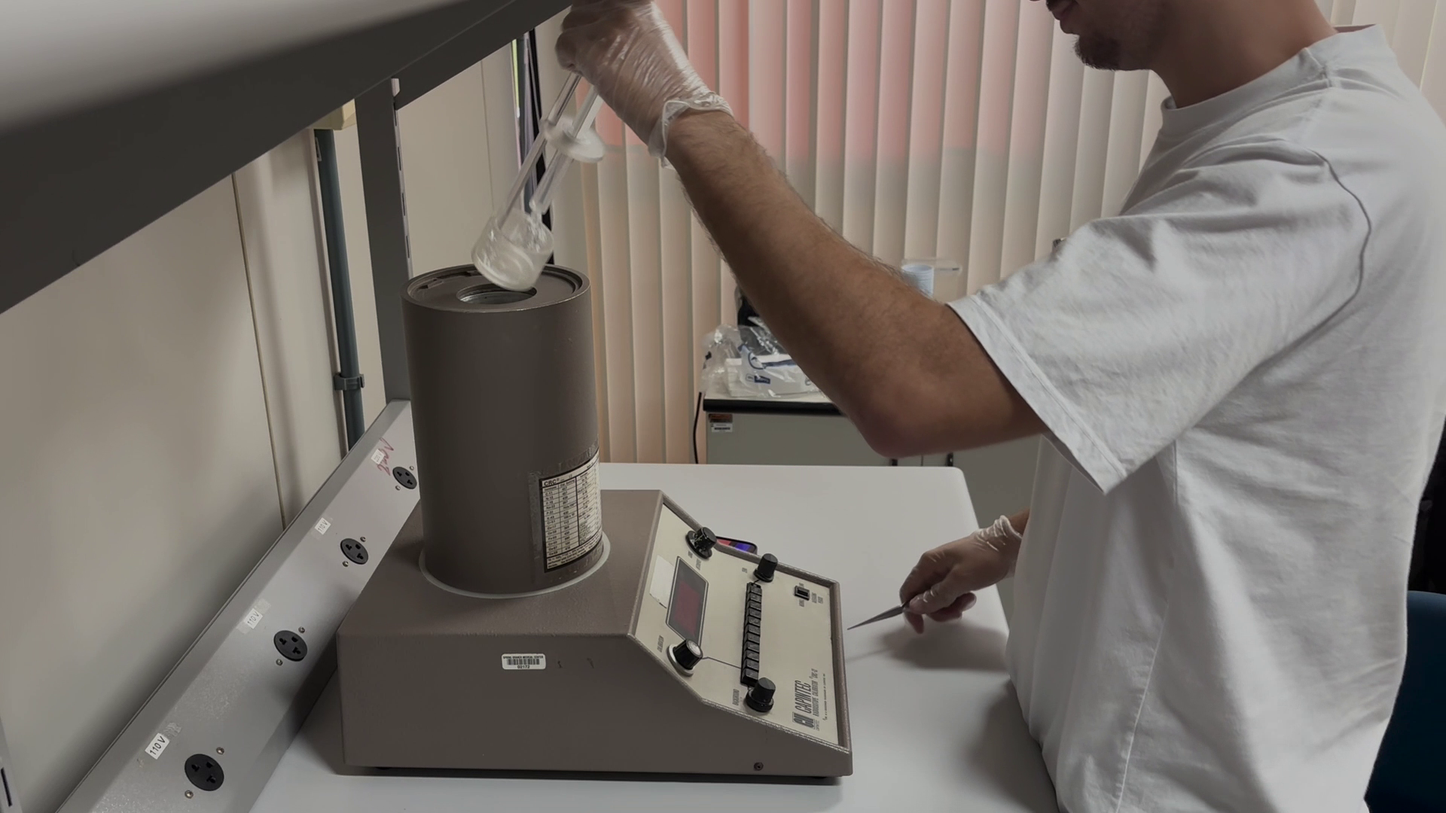Ativimetro: (399, 247, 610, 586)
Cesta: (466, 70, 607, 292)
Com_Luva: (556, 2, 733, 160), (898, 513, 1023, 633)
